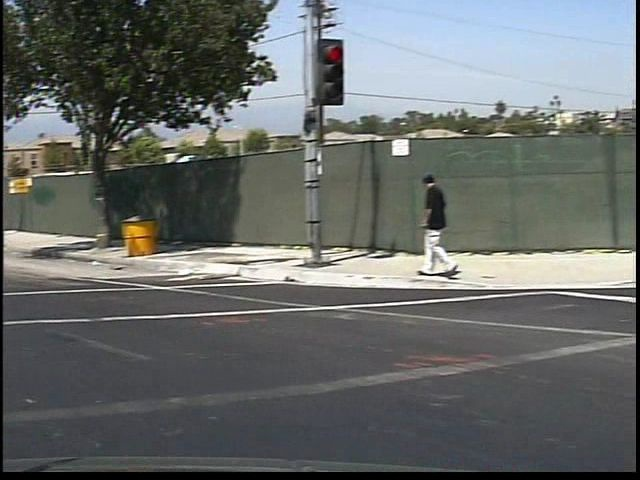person: (399, 158, 453, 286)
